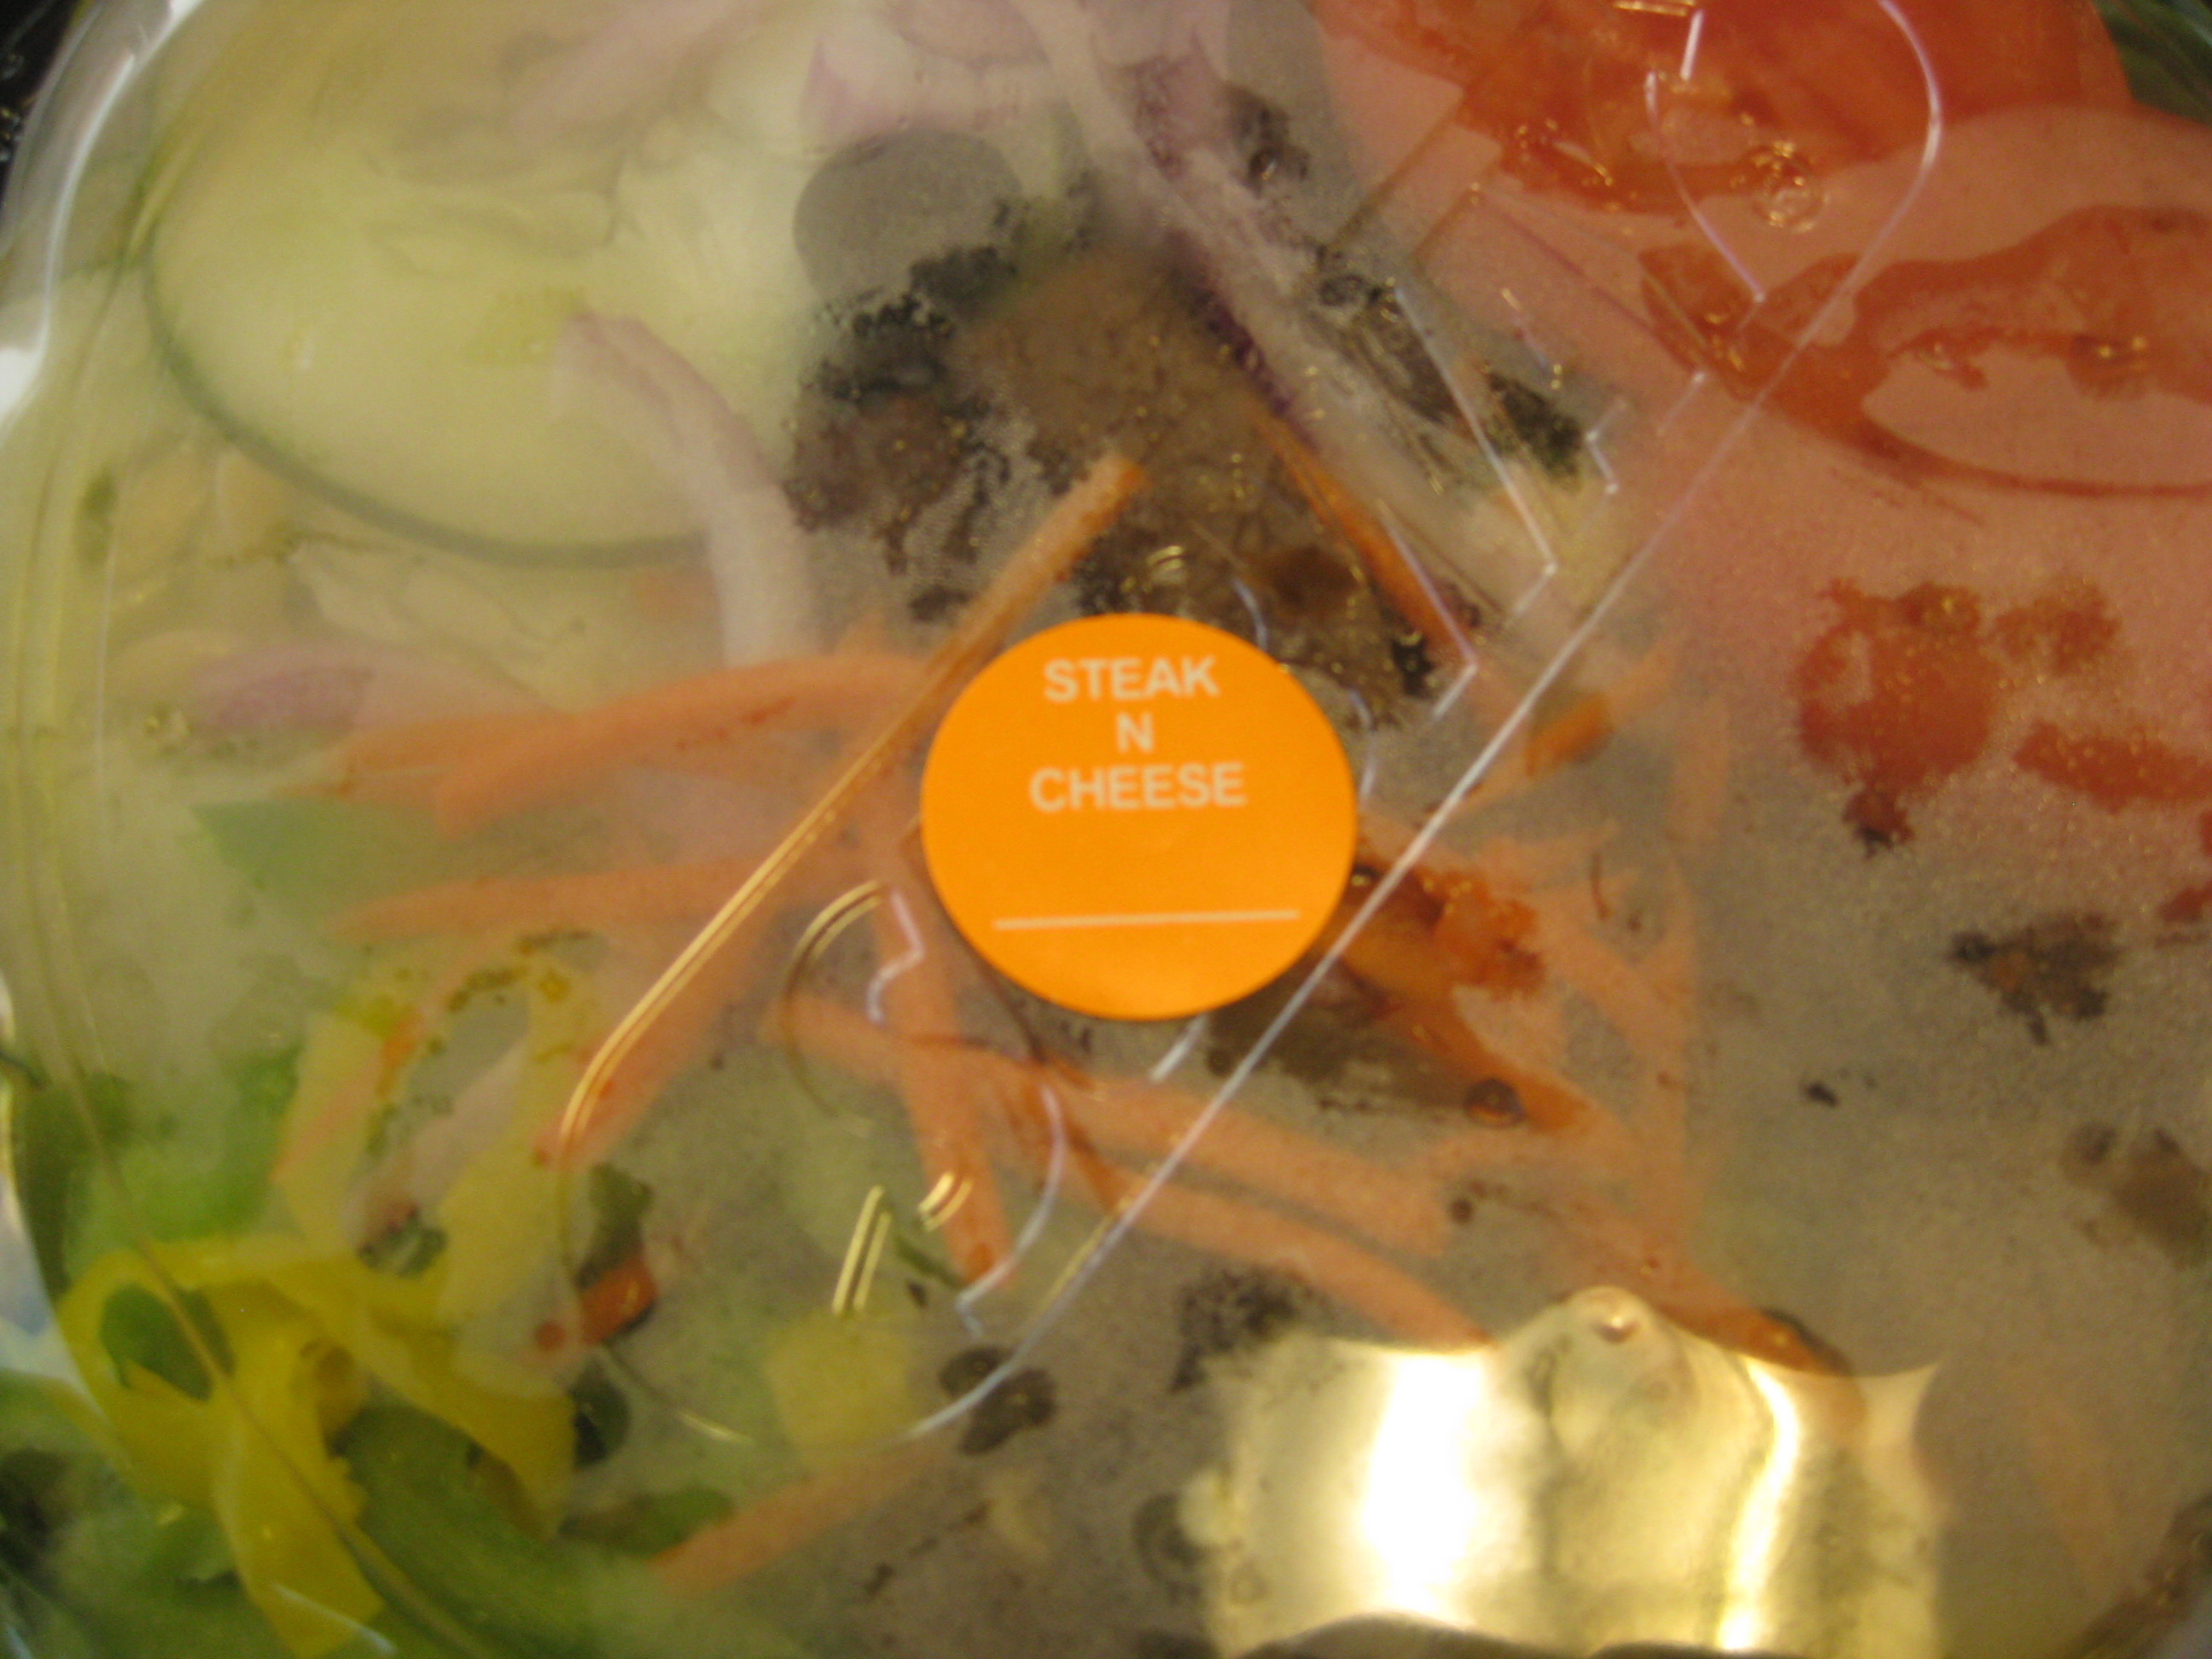salad: (26, 29, 2170, 1639)
